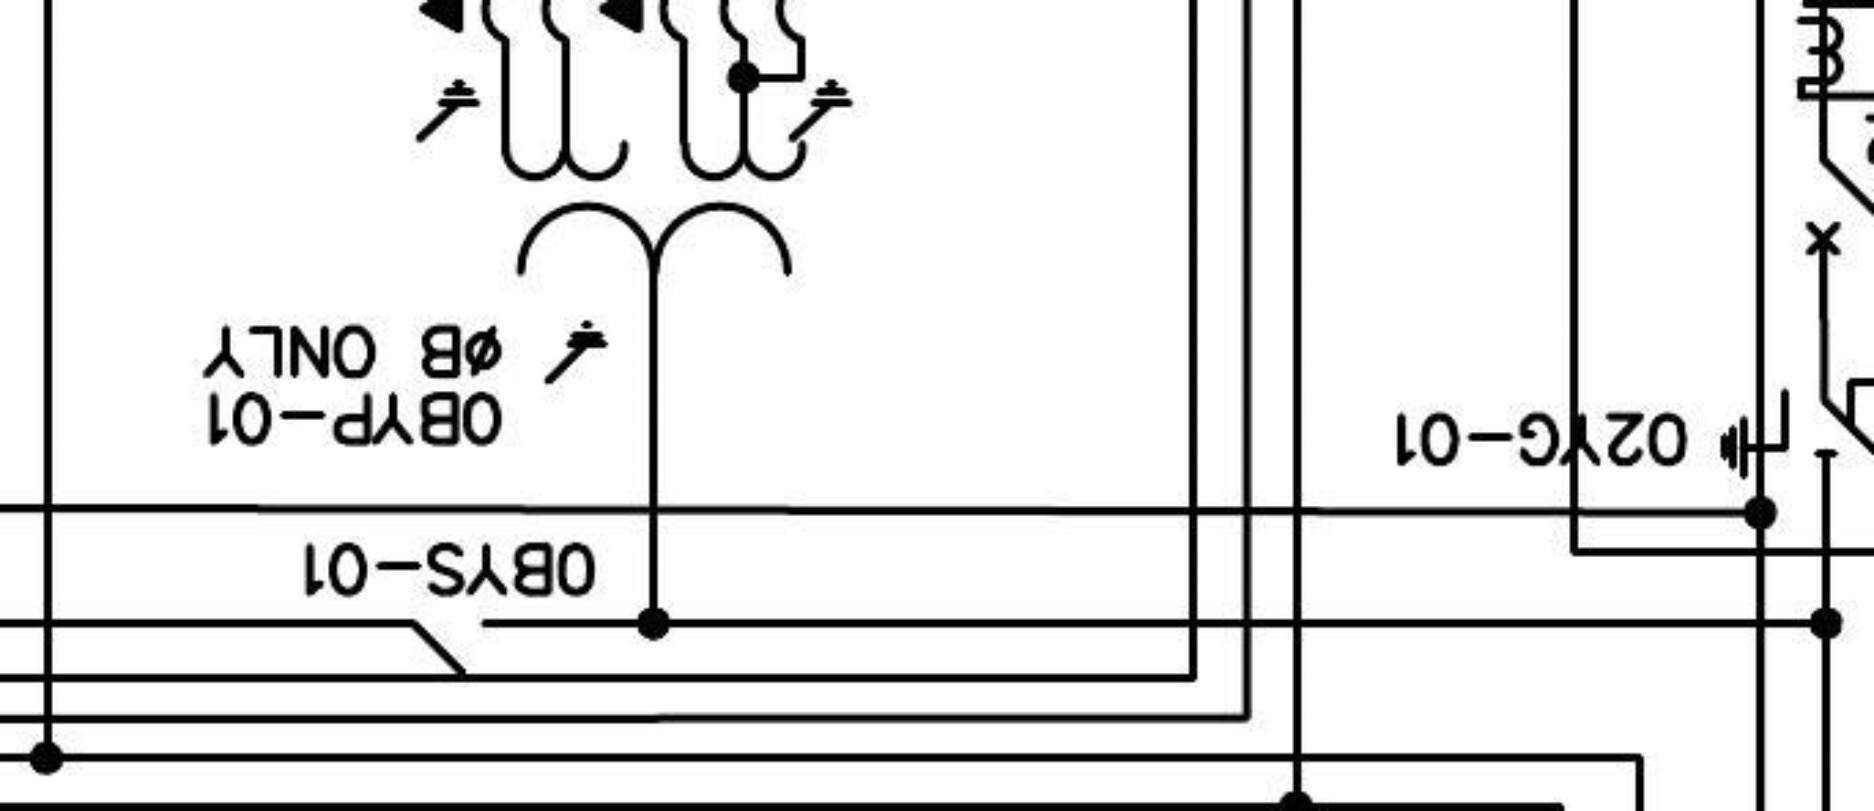115_ds: (410, 618, 492, 674)
